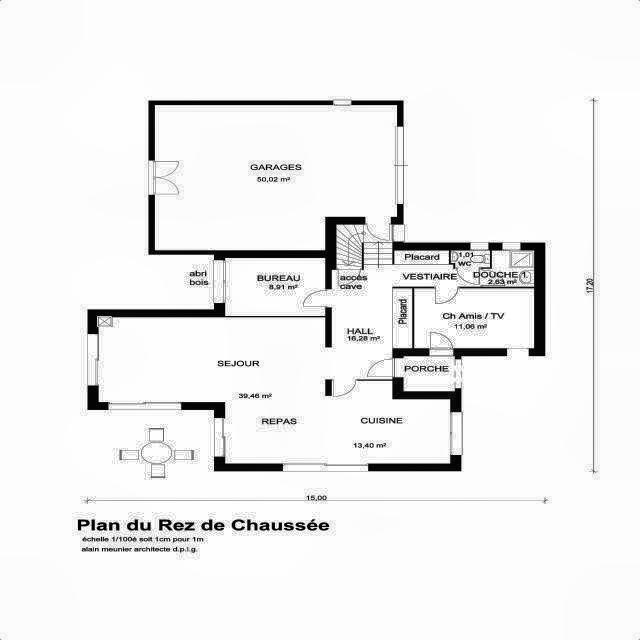room: (99, 318, 451, 464), (154, 105, 398, 250), (331, 250, 480, 379), (393, 289, 534, 348), (225, 258, 325, 316), (337, 224, 393, 270), (395, 356, 455, 391), (481, 250, 534, 287), (451, 251, 490, 268)
